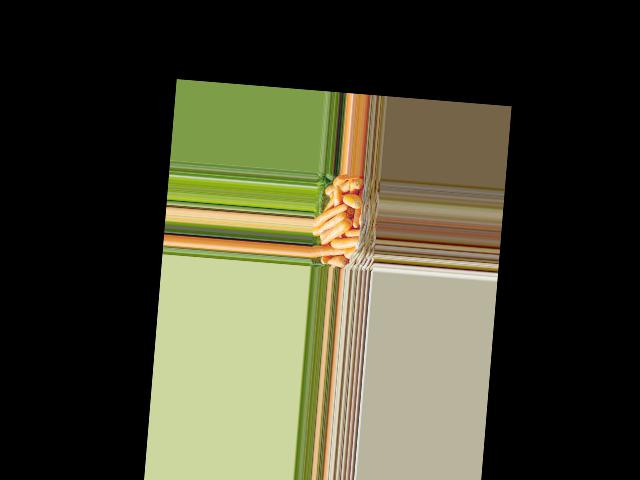carrot: (352, 178, 364, 189)
